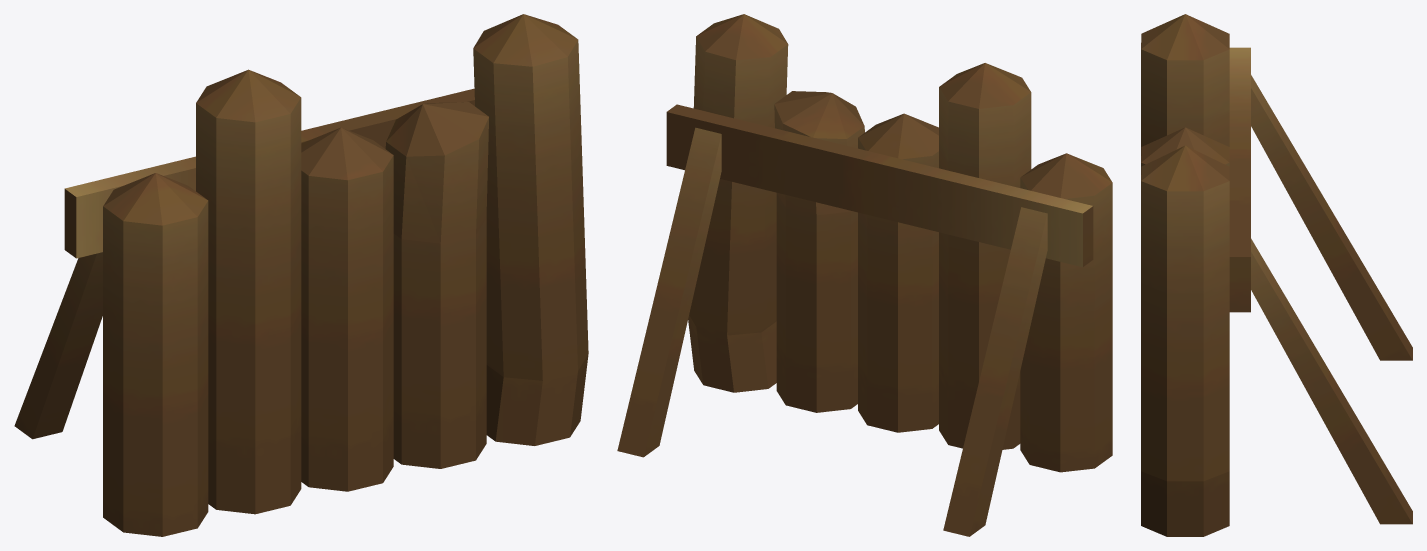
File: pack04_fences_12.fbx
3 views of the same model, side by side, from view 1: azimuth 30°, elevation 25°; view 2: azimuth 150°, elevation 25°; view 3: azimuth 270°, elevation 25° (orthographic). The views are drawn at different scales.
Visible parts, largest first — view 1: Medium_Fence_05; view 2: Medium_Fence_05; view 3: Medium_Fence_05.
Boxes of the visible parts, left/top/right/bottom form: Medium_Fence_05: left=14, top=14, right=588, bottom=536; Medium_Fence_05: left=617, top=14, right=1112, bottom=536; Medium_Fence_05: left=1141, top=14, right=1412, bottom=536.
Size of the model in its own units: 34.02 by 28.76 by 18.57.
Materials: 1 (1 with a texture image).
